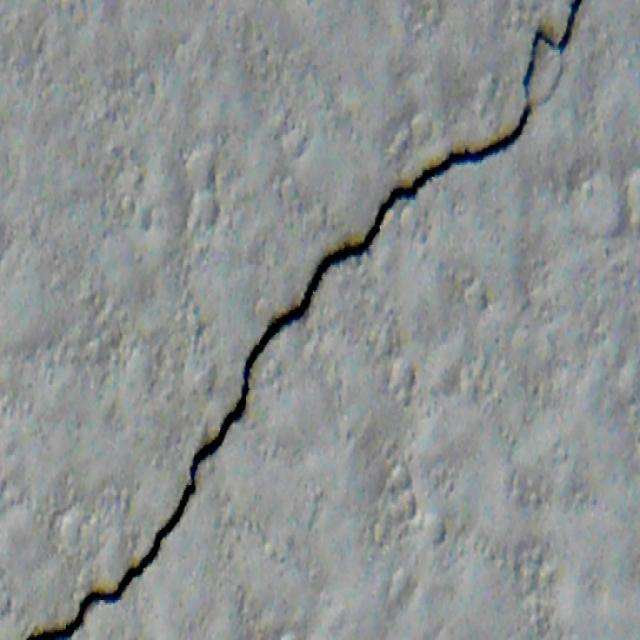Annular: (523, 29, 567, 111)
Diagonal: (9, 105, 533, 636), (561, 2, 596, 28)
